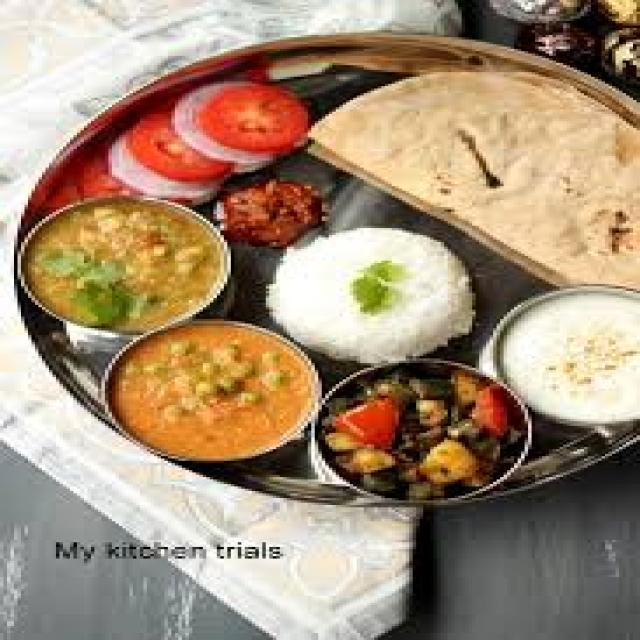dal: (18, 197, 233, 328)
pickle: (209, 181, 341, 248)
raita: (494, 288, 629, 427)
rice: (258, 225, 490, 365)
roti: (317, 70, 640, 266)
veg: (92, 319, 338, 466)
veg-fry: (312, 369, 530, 500)
